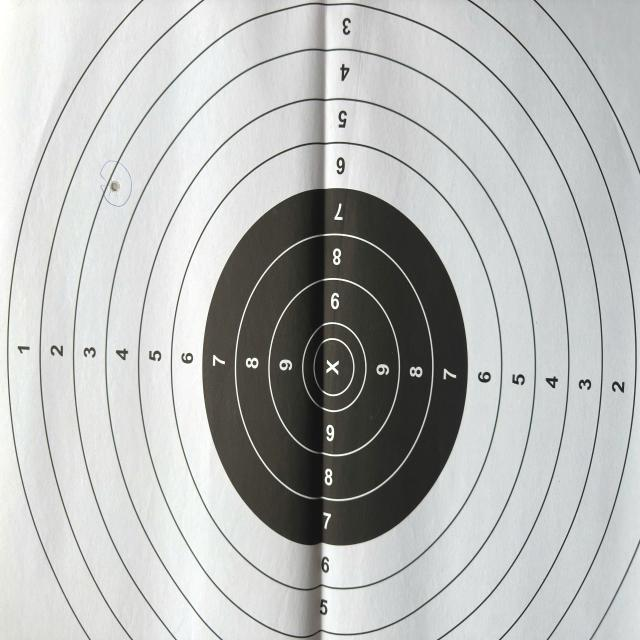bullet: (109, 182, 119, 194)
target: (1, 3, 639, 639)
